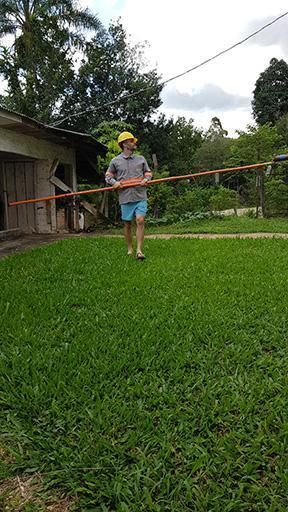helmet: (116, 130, 138, 154)
